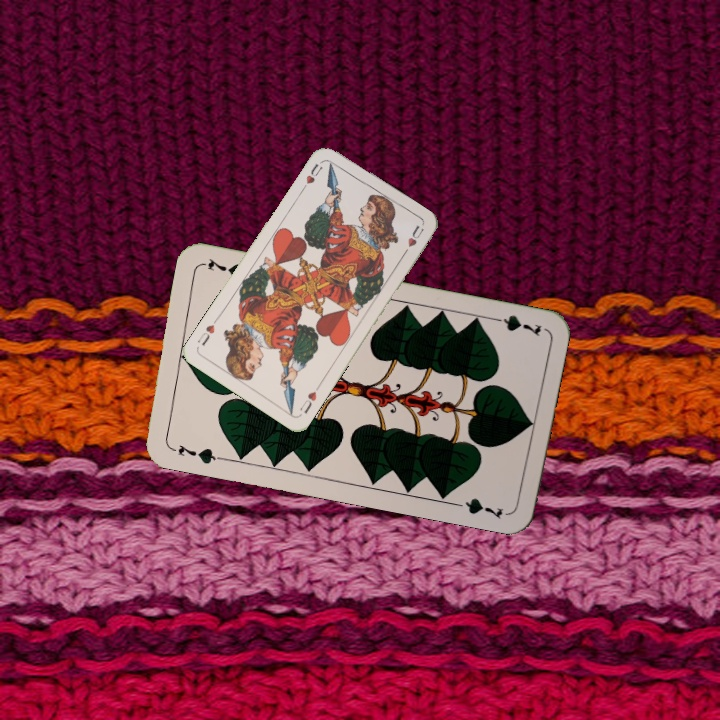G7: (486, 310, 544, 339), (166, 440, 224, 467)
HU: (296, 381, 323, 416), (298, 159, 325, 193)
